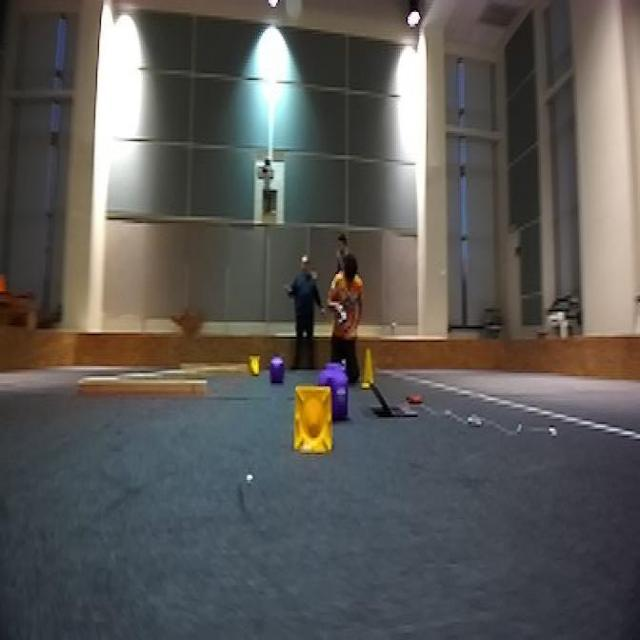frc_cone: (291, 381, 341, 463), (360, 349, 379, 386), (248, 351, 264, 378)
frc_cube: (326, 373, 352, 417), (266, 354, 286, 376)
